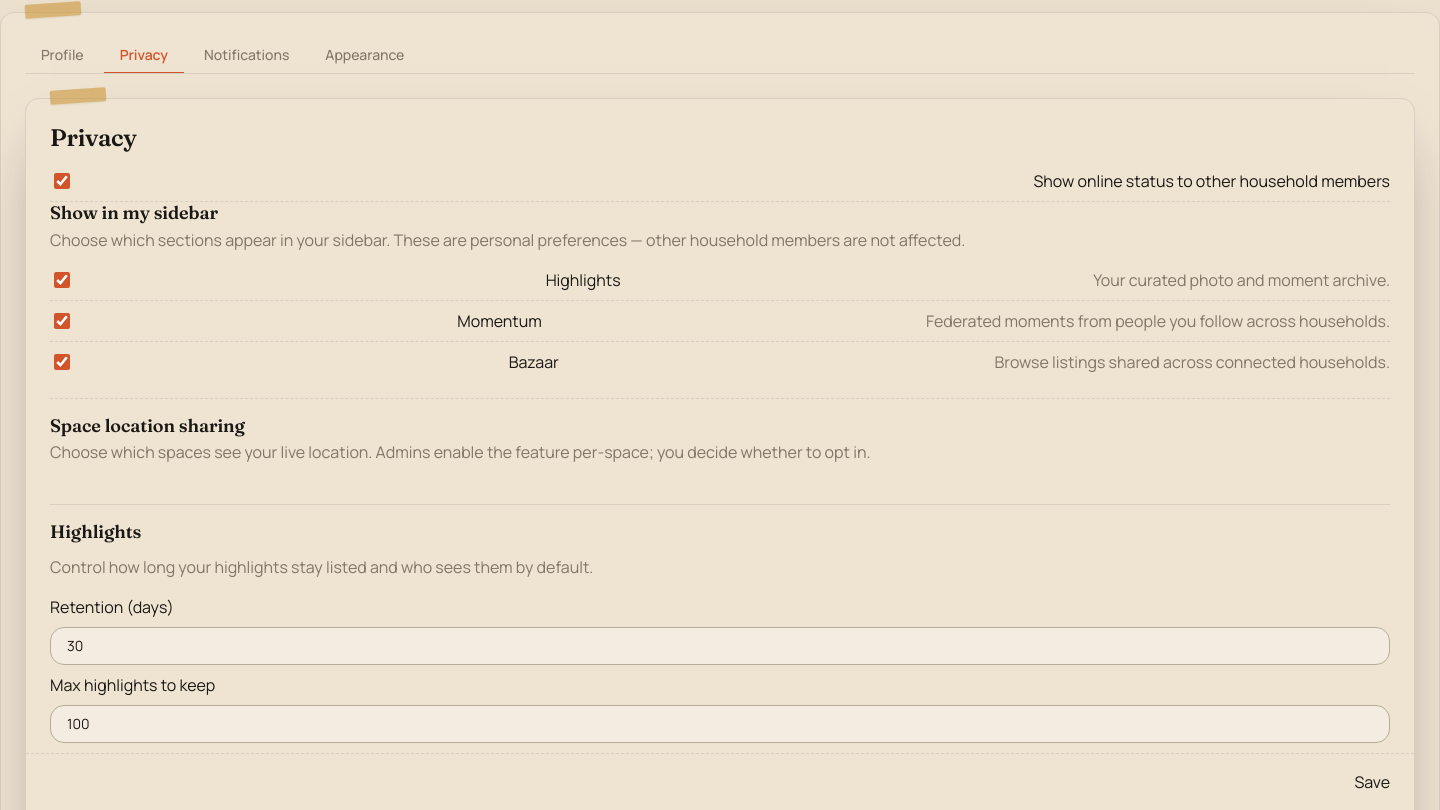
Test: SidebarVisibilityPanel › a WS frame user.preferences_changed updates the displayed checkbox state
The width and height of the screenshot is (1440, 810).
Click the tab "Privacy" at (144, 56), box [104, 37, 184, 74]
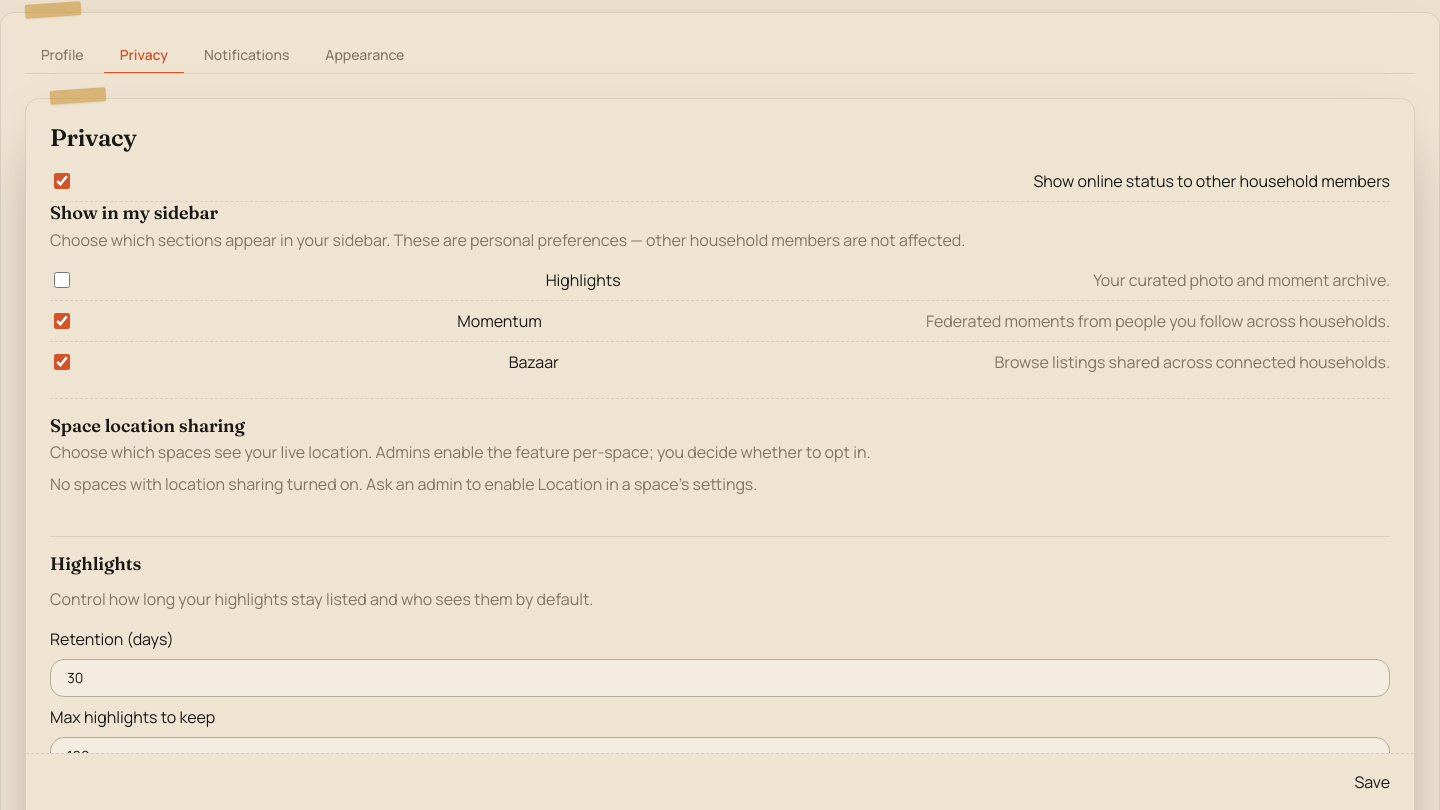
Now the checkbox labelled "Highlights Your curated photo and moment archive." is not checked, box [54, 272, 70, 288]
